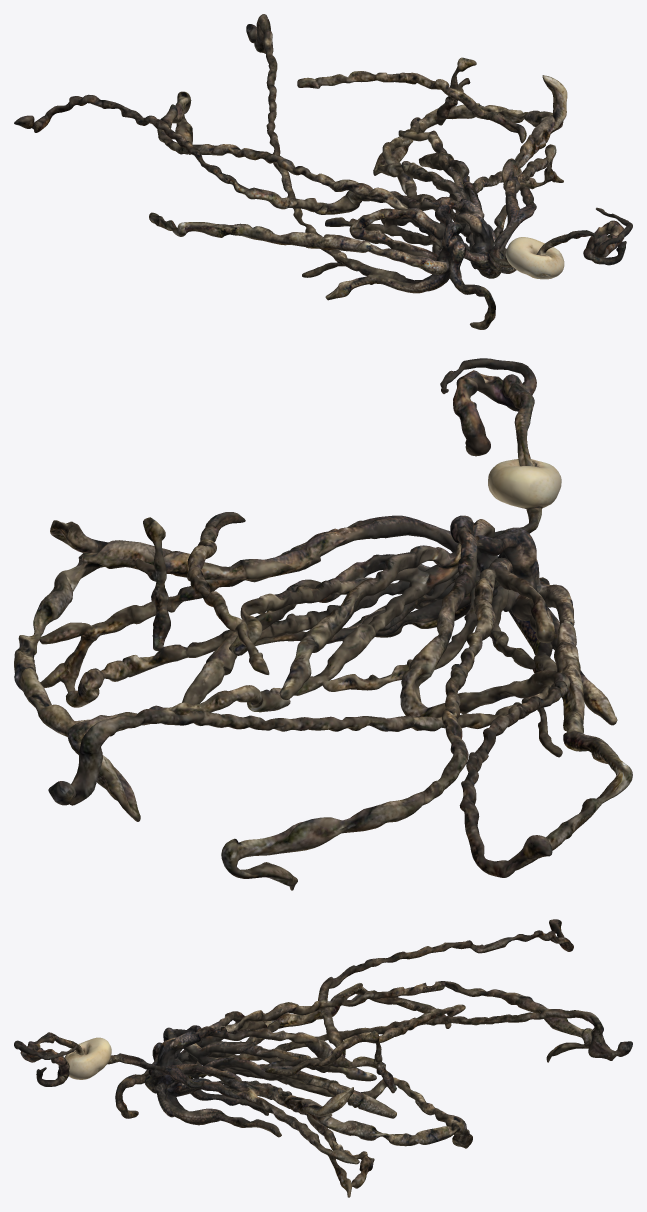
The model's file is tassel.glb.
3 views of the same model, one above another, from view 1: azimuth 30°, elevation 25°; view 2: azimuth 150°, elevation 25°; view 3: azimuth 270°, elevation 25° (orthographic). The views are drawn at different scales.
Visible parts, largest first — view 1: tripo_node_59b30149-978d-4a92-9c10-9785d099ed2c; view 2: tripo_node_59b30149-978d-4a92-9c10-9785d099ed2c; view 3: tripo_node_59b30149-978d-4a92-9c10-9785d099ed2c.
Part boxes in pixels (x1,y1,x2,y2): tripo_node_59b30149-978d-4a92-9c10-9785d099ed2c: (14,14,632,329); tripo_node_59b30149-978d-4a92-9c10-9785d099ed2c: (14,358,632,890); tripo_node_59b30149-978d-4a92-9c10-9785d099ed2c: (14,919,632,1197).
Size of the model in its own units: 0.762 by 0.2472 by 0.9999.
1 material, 1 textured.
